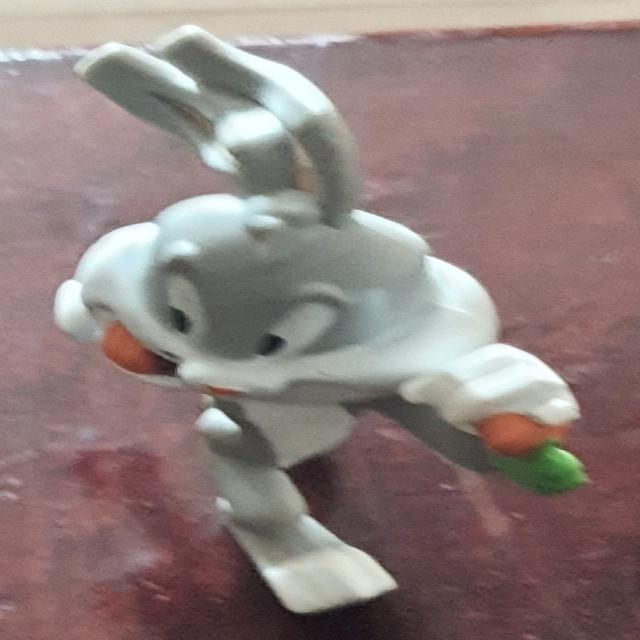Rabbit: (50, 24, 590, 615)
